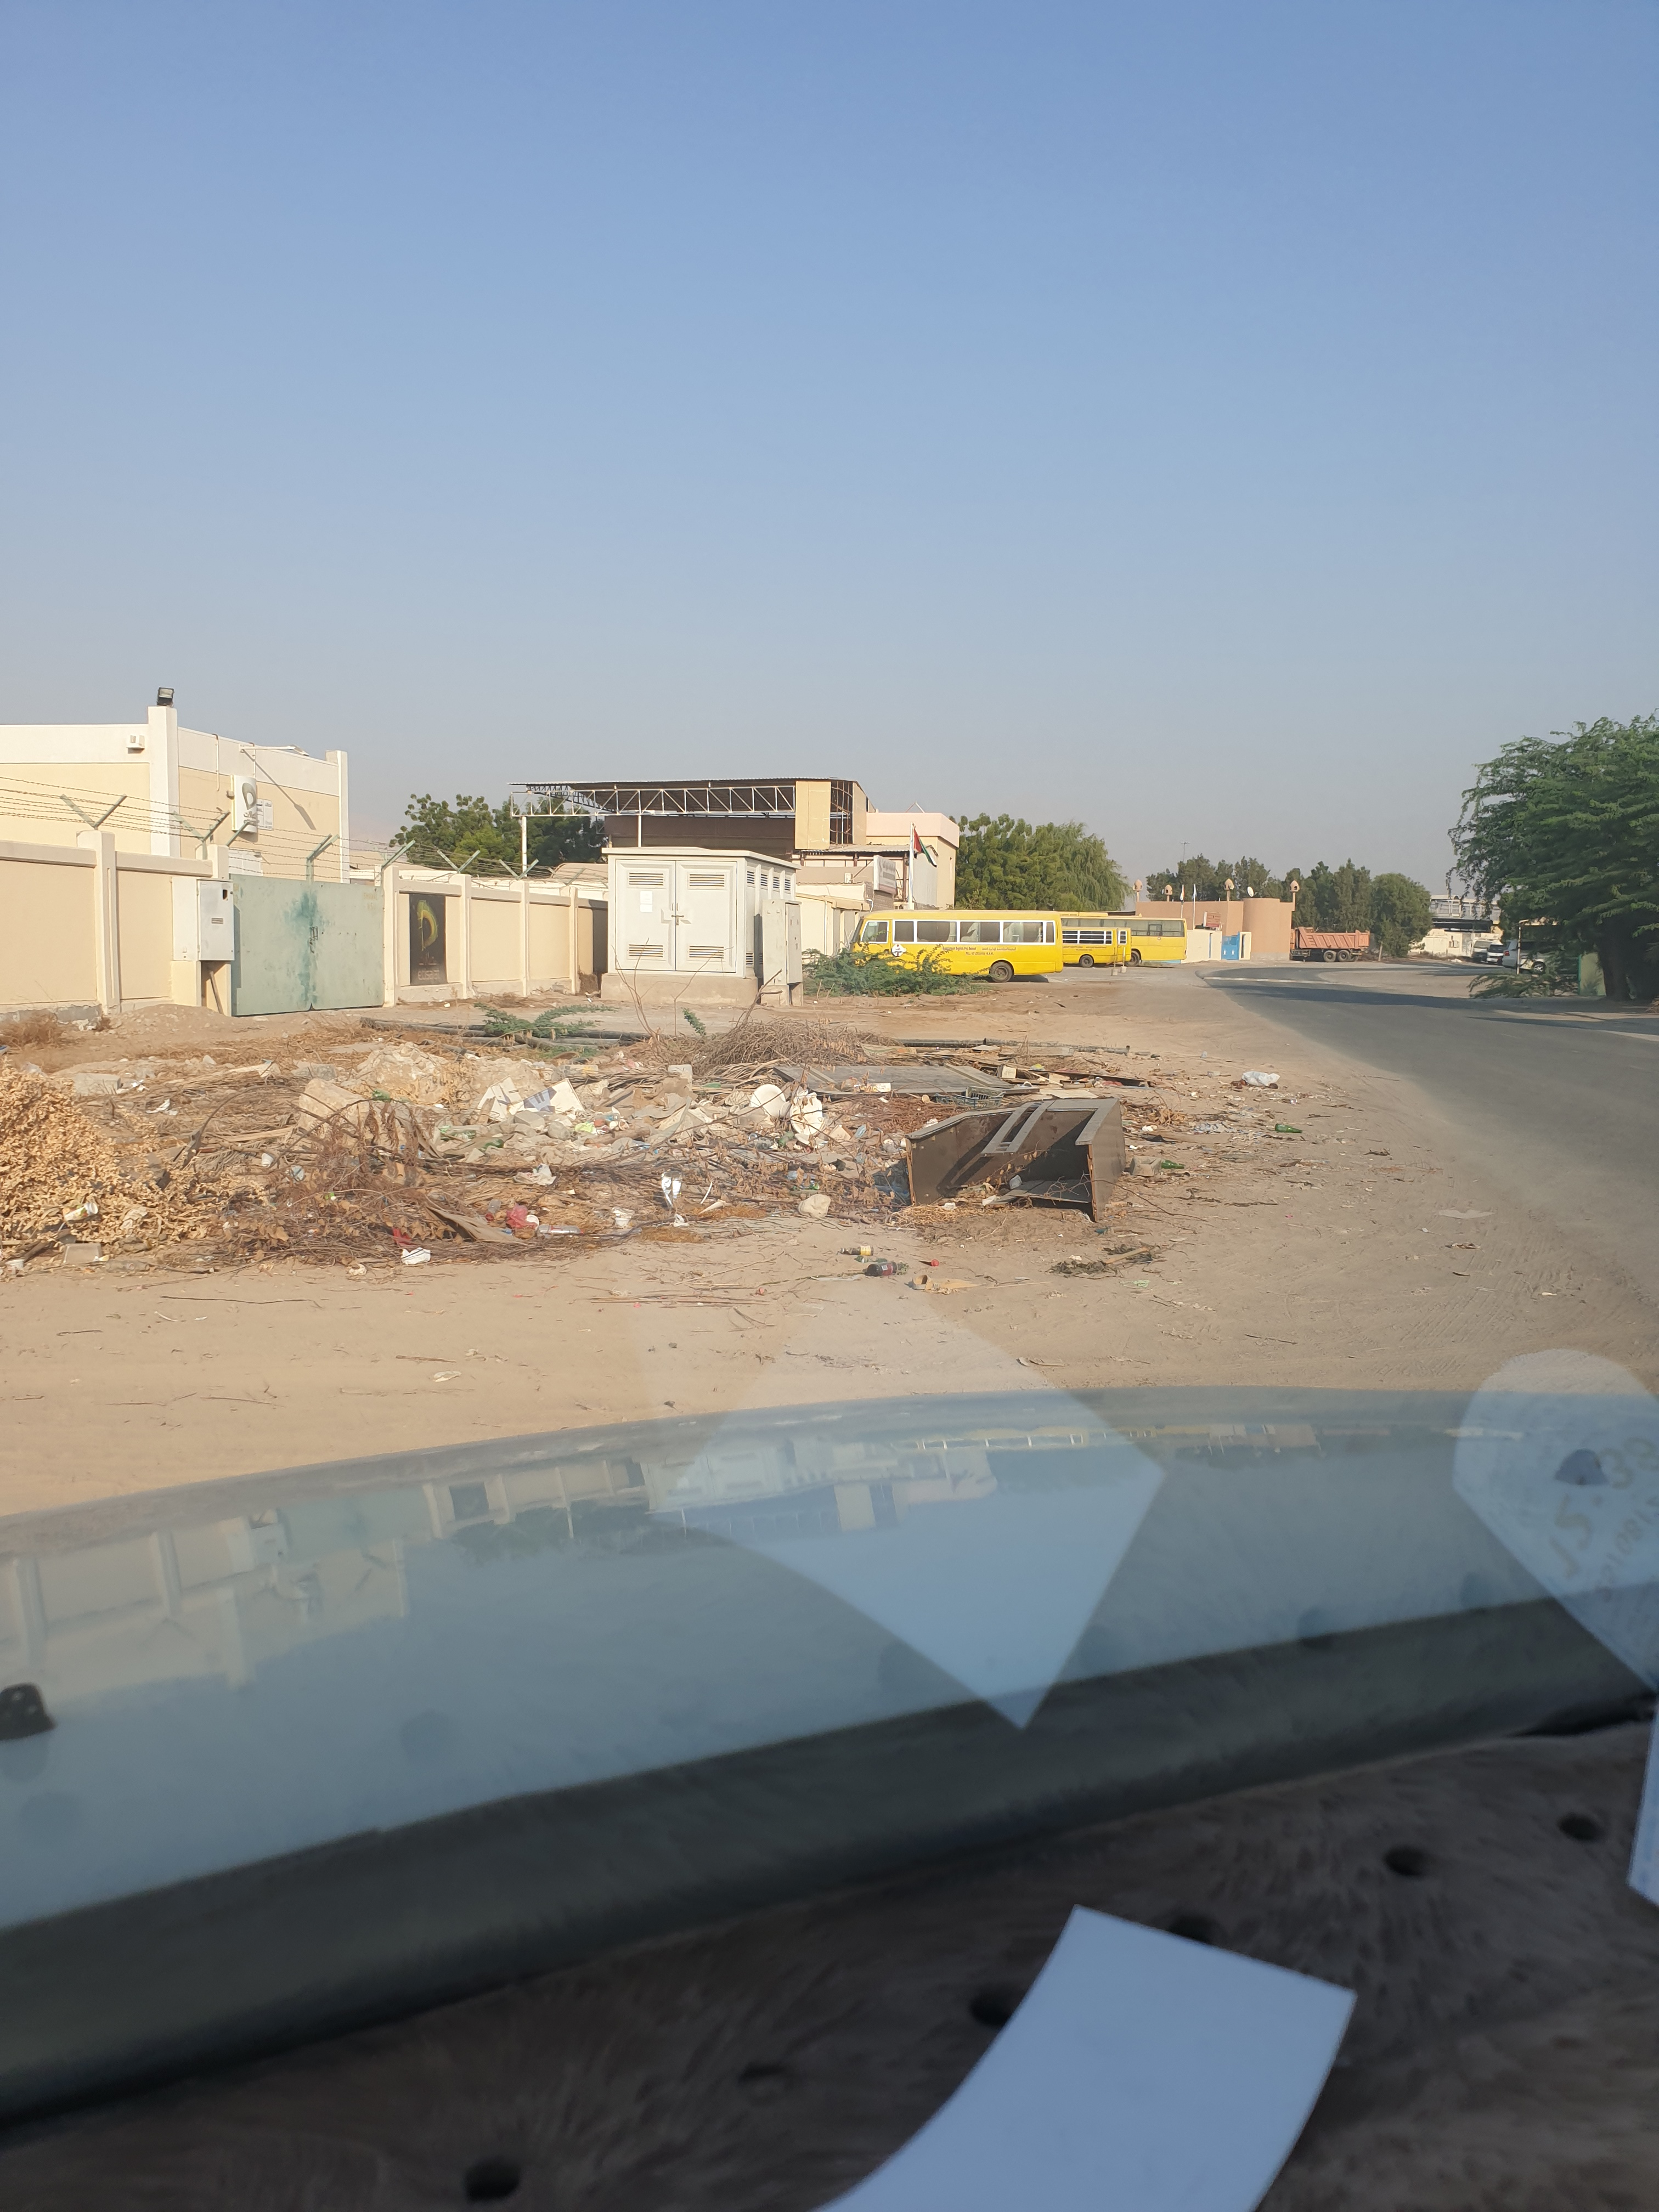fallen_trees: (173, 1127, 653, 1285), (33, 1066, 265, 1264), (704, 1148, 845, 1270)
uncollected_waste: (873, 1090, 1180, 1233)
